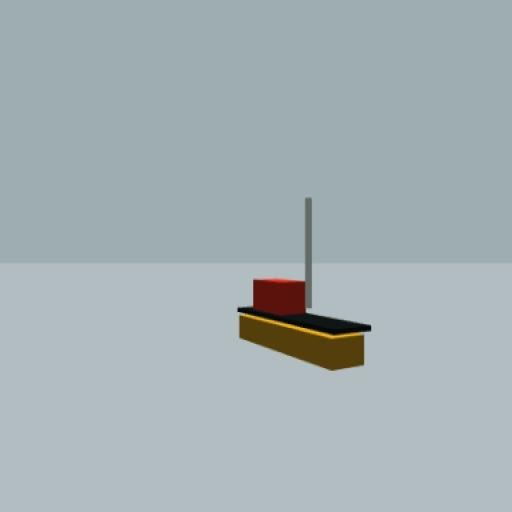vessel: (238, 196, 372, 374)
